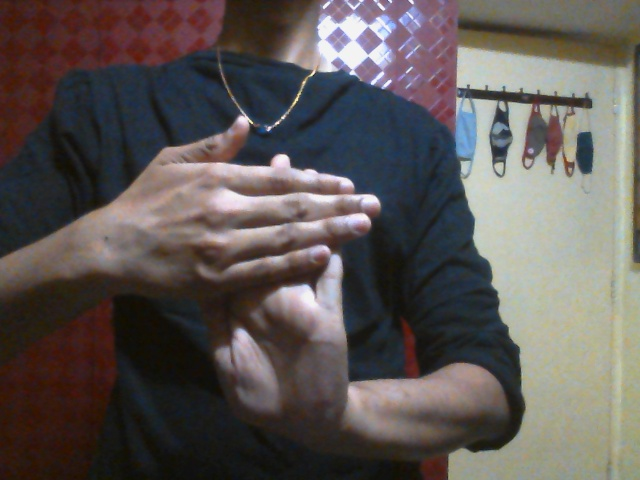H: (134, 112, 384, 446)
